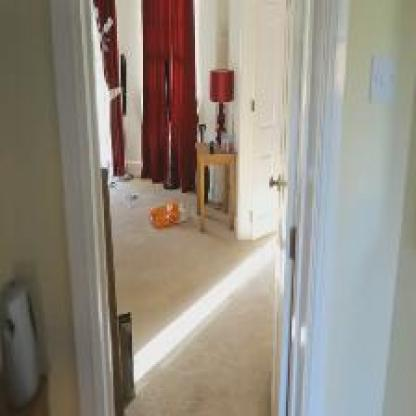other: (137, 0, 195, 177), (88, 0, 135, 170), (137, 195, 189, 226), (200, 64, 239, 102)
